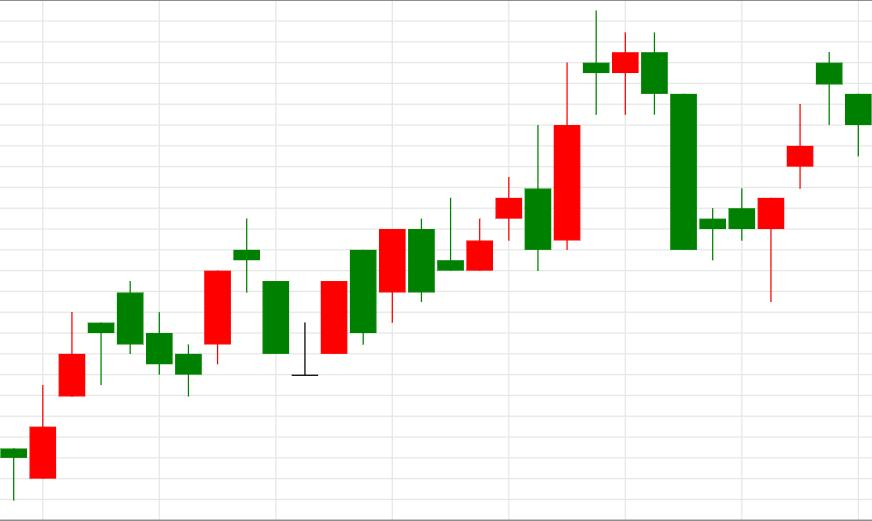hammer_rise: (584, 10, 785, 302)
